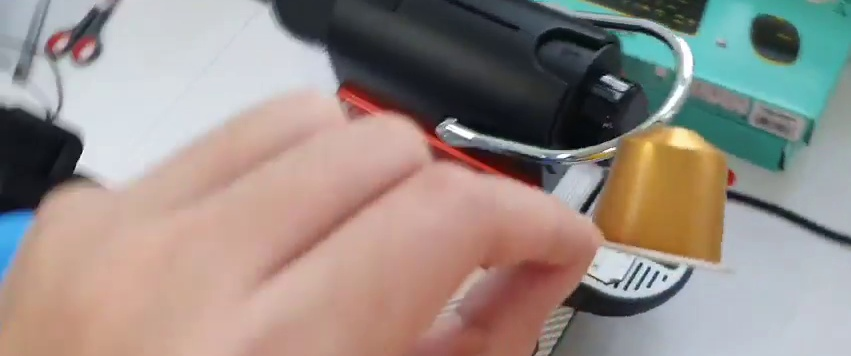capsule_8: (588, 123, 733, 283)
